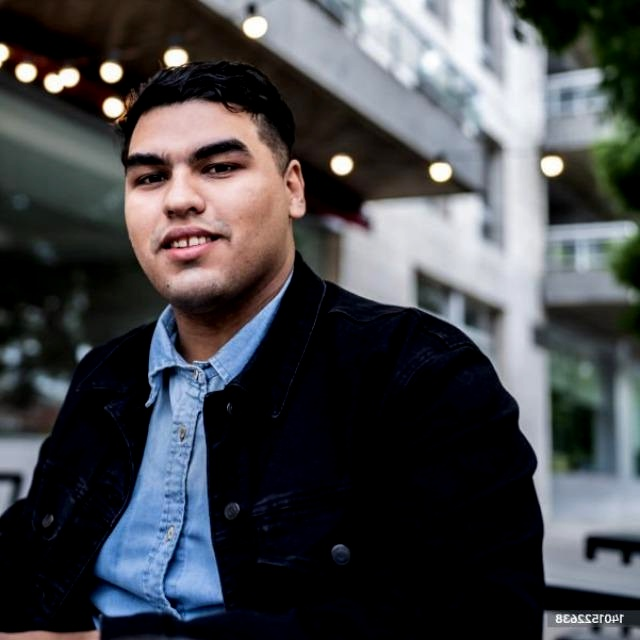Sin_Casco_Mascarrilla: (116, 62, 301, 306)
Sin_Chaleco: (54, 308, 466, 639)
